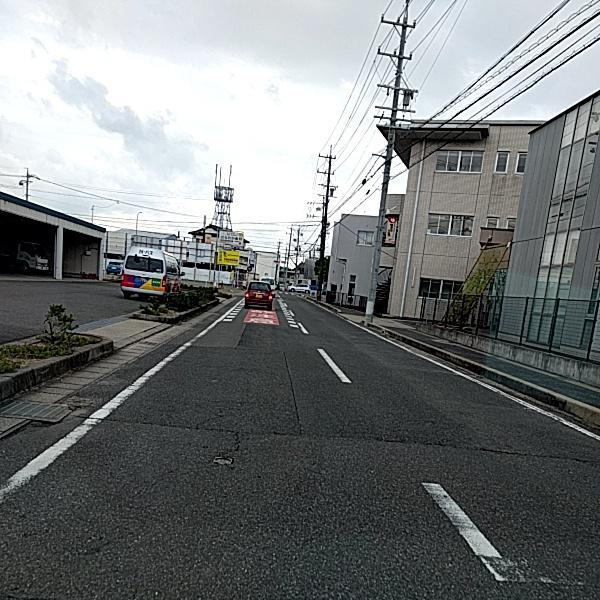D40: (206, 439, 236, 475)
